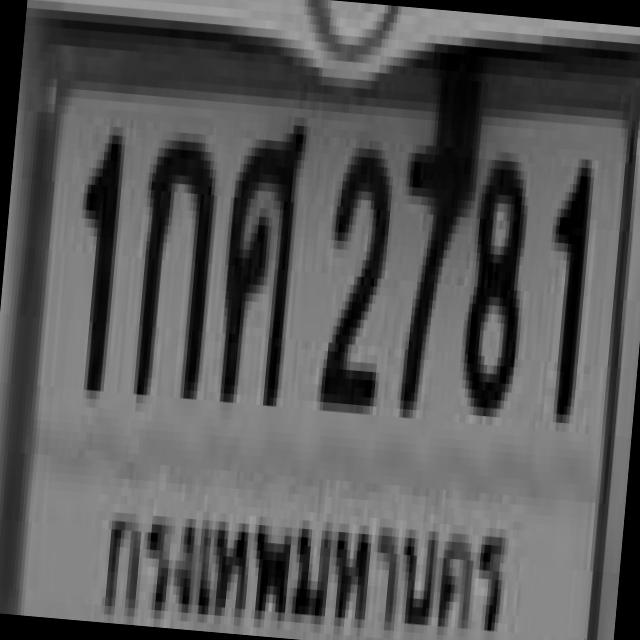1: (536, 148, 592, 414), (66, 124, 122, 390)
10GorGai: (130, 130, 216, 399)
2: (316, 138, 392, 406)
47SorSala: (213, 112, 304, 398)
7: (384, 110, 476, 412)
8: (456, 150, 528, 409)
Bangkok: (89, 471, 518, 640)
